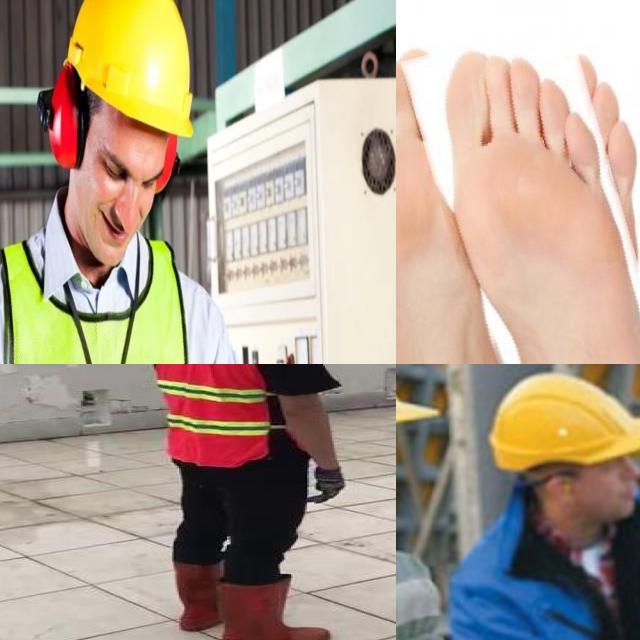Barefoots: (447, 35, 640, 364), (396, 34, 497, 364)
Ear-protection: (33, 0, 201, 288)
No_Glasses: (94, 131, 160, 210)
boots: (216, 576, 331, 640), (169, 562, 221, 635)
hand_glove: (310, 466, 350, 509)
person: (134, 364, 355, 640)
vest: (147, 364, 289, 468)
